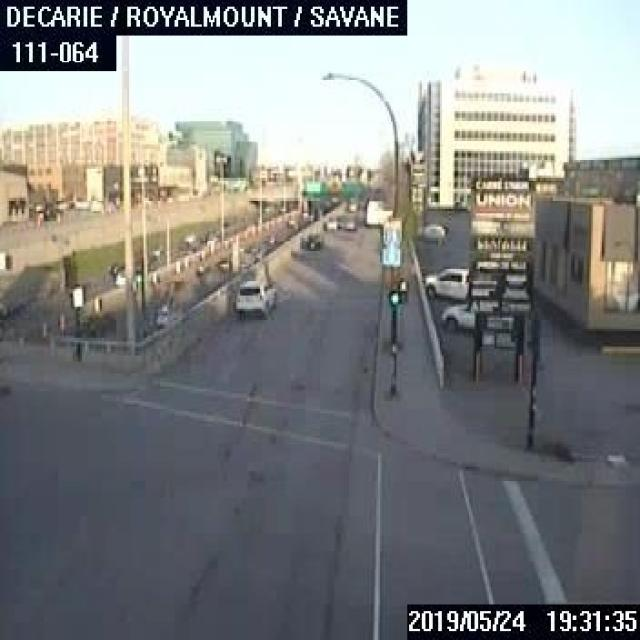vehicle: (233, 277, 276, 313), (425, 265, 467, 297), (440, 301, 479, 330), (417, 223, 445, 242), (302, 231, 322, 249), (212, 255, 232, 269), (193, 262, 207, 274)
